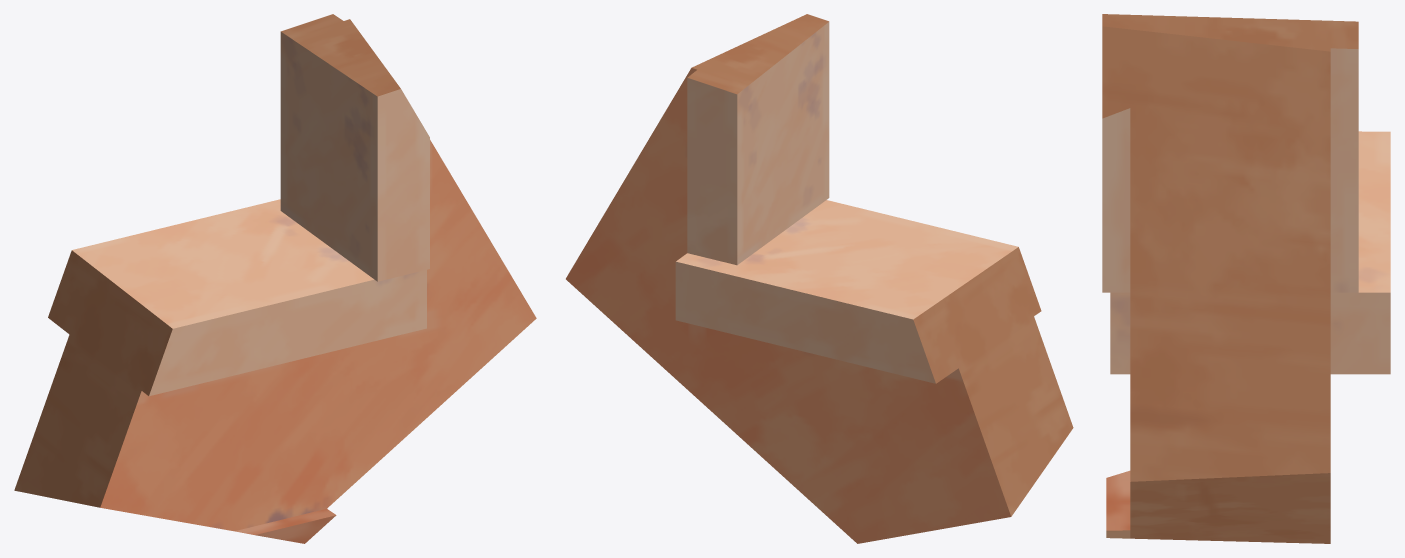
The model's file is wall2_upper_window_s04.fbx.
3 views of the same model, side by side, from view 1: azimuth 30°, elevation 25°; view 2: azimuth 150°, elevation 25°; view 3: azimuth 270°, elevation 25° (orthographic). The views are drawn at different scales.
Parts seen in each view (by area): view 1: wall2_upper_window_s04; view 2: wall2_upper_window_s04; view 3: wall2_upper_window_s04.
Boxes of the visible parts, x1,y1,x2,y2 form: wall2_upper_window_s04: [14, 14, 536, 543]; wall2_upper_window_s04: [566, 14, 1073, 543]; wall2_upper_window_s04: [1102, 14, 1390, 543].
Bounding box in the file's own units: 3.57 × 3.35 × 1.44.
